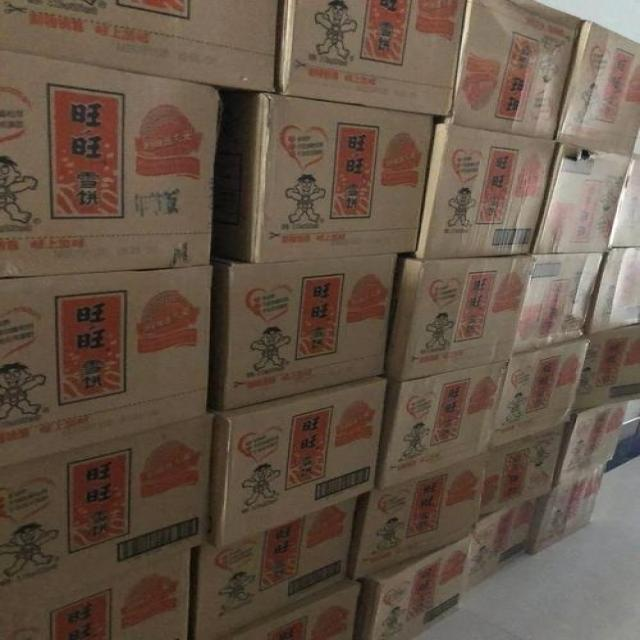box: (0, 49, 223, 280), (0, 265, 214, 469), (0, 414, 211, 620), (214, 93, 434, 262), (206, 374, 390, 547), (209, 254, 396, 412), (0, 2, 280, 93), (195, 497, 358, 639), (275, 0, 465, 117), (381, 254, 536, 382), (415, 123, 554, 260), (449, 0, 585, 140), (375, 360, 511, 492), (349, 456, 486, 580), (0, 551, 189, 639), (355, 537, 472, 640), (556, 20, 640, 156), (532, 141, 632, 254), (490, 339, 589, 453), (513, 253, 607, 356), (218, 577, 361, 640), (481, 426, 566, 517), (530, 464, 607, 555), (465, 499, 539, 591), (553, 401, 627, 489), (575, 324, 640, 410), (590, 247, 640, 337)
